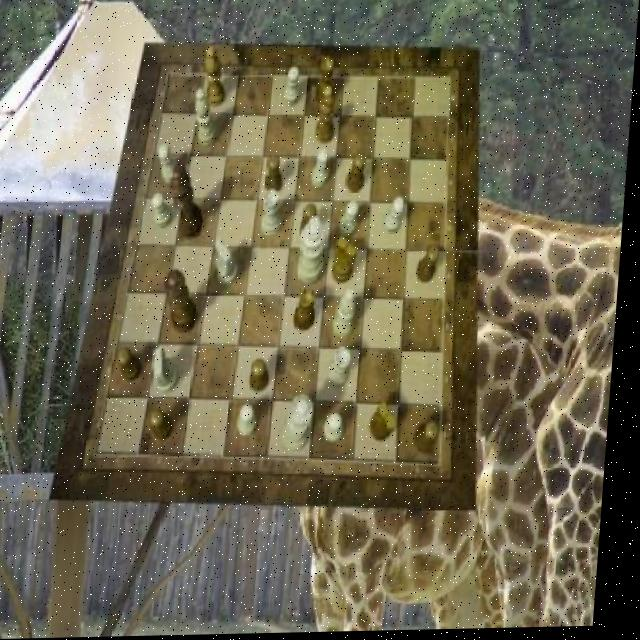bishop: (203, 47, 230, 109), (317, 88, 339, 147)
black-bishop: (169, 164, 210, 241)
black-king: (334, 238, 361, 286), (374, 404, 404, 444)
black-knight: (419, 247, 444, 284), (121, 348, 147, 383), (419, 423, 446, 455), (154, 410, 179, 443), (349, 157, 369, 195), (255, 359, 276, 394), (303, 205, 322, 243), (267, 157, 286, 195)
black-pawn: (165, 268, 204, 335)
black-queen: (316, 57, 338, 108), (297, 289, 322, 332)
black-rook: (195, 90, 223, 149), (336, 291, 361, 339)
white-bishop: (300, 219, 330, 287)
white-king: (215, 240, 242, 288), (157, 349, 185, 395)
white-knight: (159, 144, 184, 185), (153, 193, 178, 228), (385, 199, 408, 235), (313, 151, 332, 190), (342, 203, 362, 239), (284, 69, 302, 109), (243, 406, 262, 439), (328, 415, 349, 444)
white-pawn: (288, 396, 321, 454)
white-queen: (263, 190, 287, 237), (331, 349, 356, 391)
